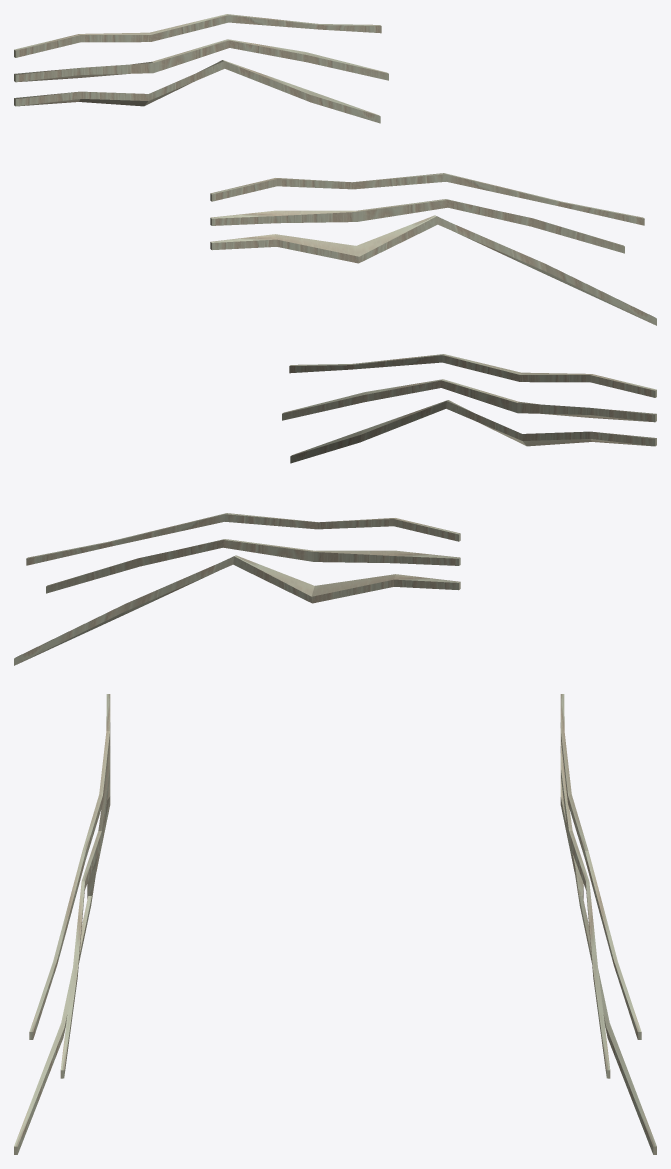
The picture shows the model from 3 angles, top to bottom: view 1: azimuth 30°, elevation 25°; view 2: azimuth 150°, elevation 25°; view 3: azimuth 270°, elevation 25°; orthographic projection. The views are drawn at different scales.
Visible parts, largest first — view 1: brid_rln029_woodsemwhite_0; view 2: brid_rln029_woodsemwhite_0; view 3: brid_rln029_woodsemwhite_0.
Boxes of the visible parts, x1,y1,x2,y2 form: brid_rln029_woodsemwhite_0: (14, 14, 656, 325); brid_rln029_woodsemwhite_0: (14, 354, 656, 665); brid_rln029_woodsemwhite_0: (14, 694, 656, 1154).
Size of the model in its own units: 3.5 by 1.66 by 4.16.
1 material, 1 textured.
